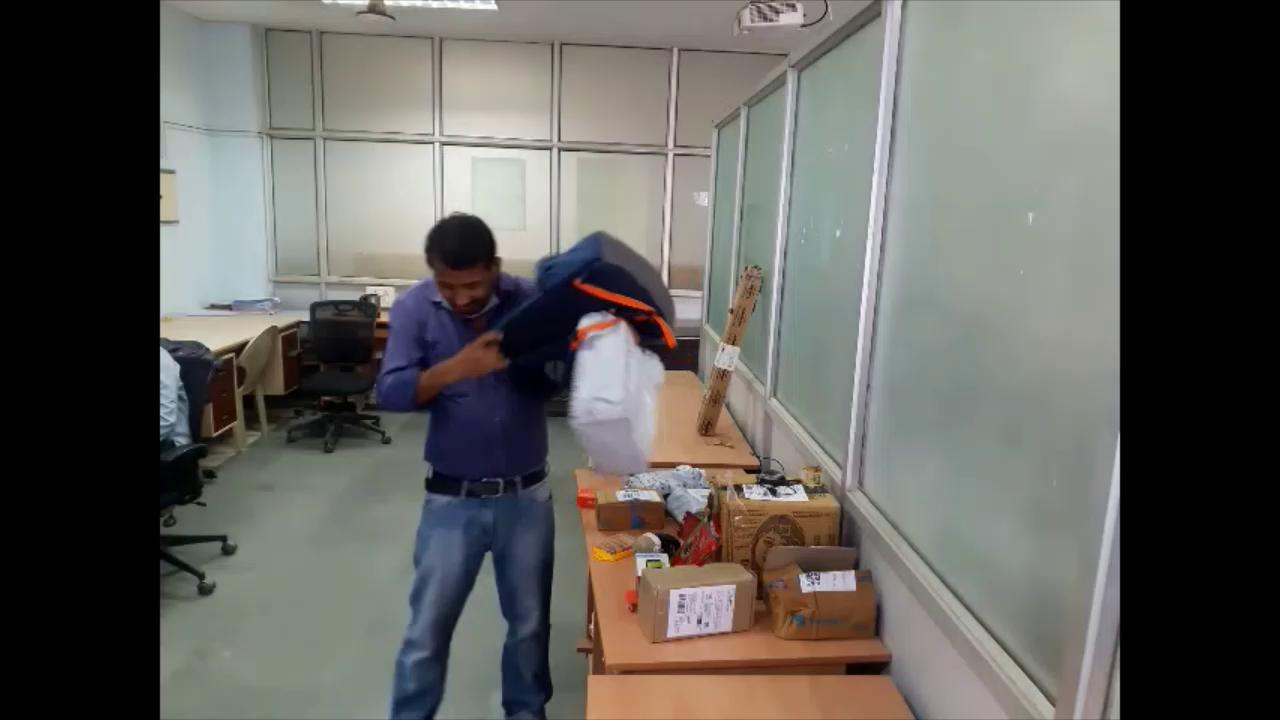shoplifting: (374, 210, 681, 720)
